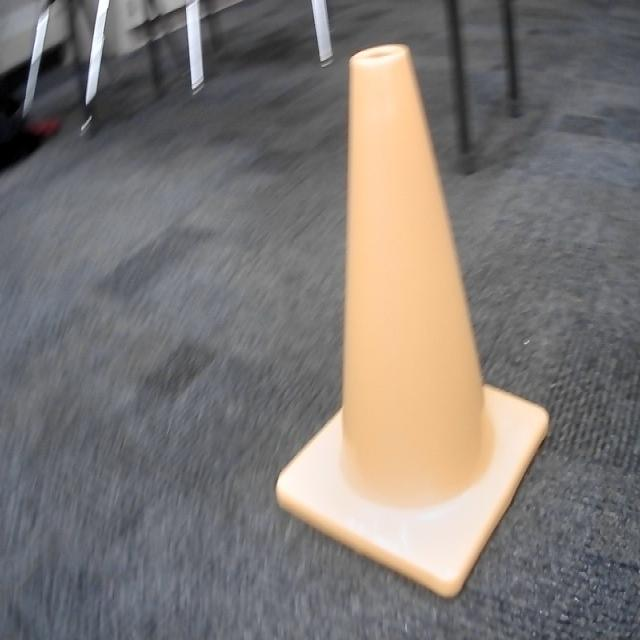cone: (276, 41, 549, 604)
